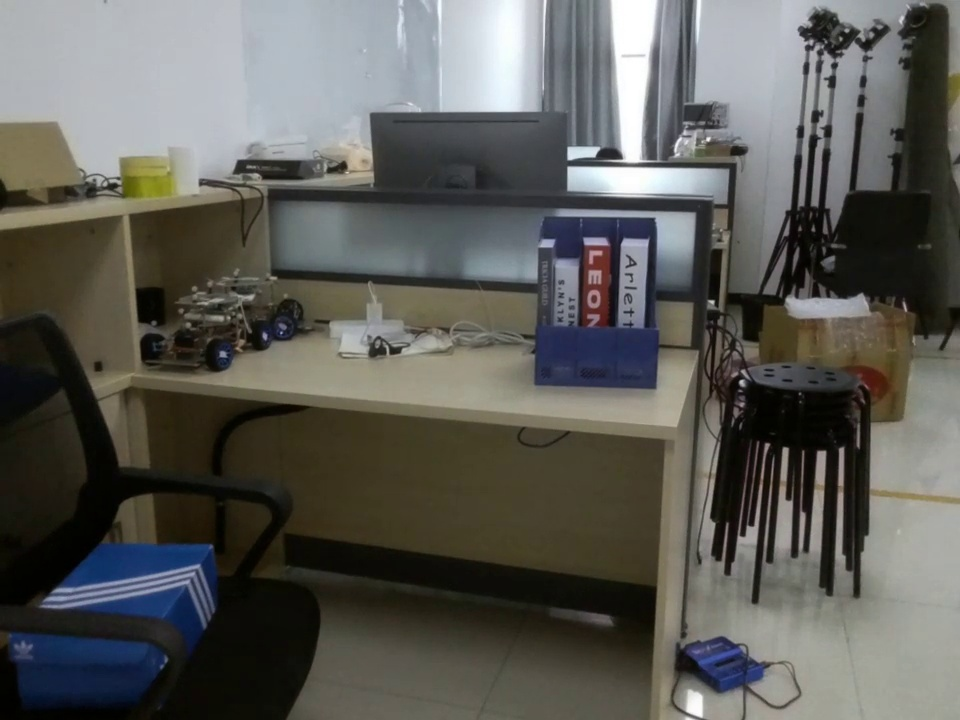files: (531, 214, 664, 390)
